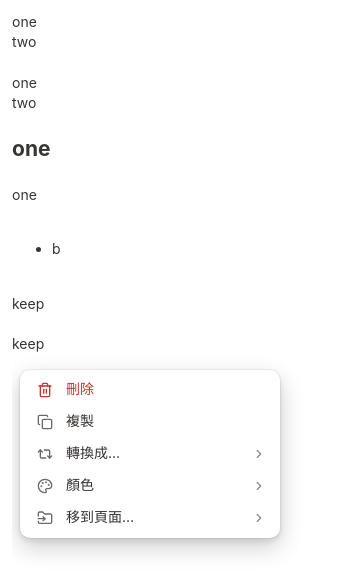
Scenario: block menu (UI-3) › 移到頁面… keeps the block when the service fails
Click the menu item "移到頁面…" at [150, 518], box 24,502 -> 276,534
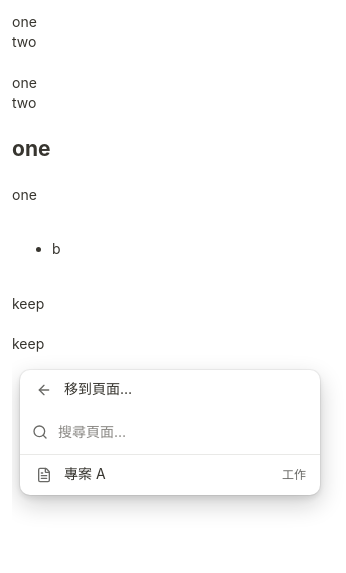
Click the text "專案 A" at [85, 474], box 64,465 -> 106,482
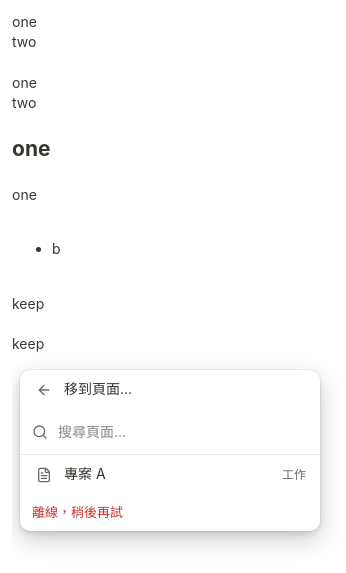
Expected: the message reads "離線，稍後再試", 32,504 -> 123,520
